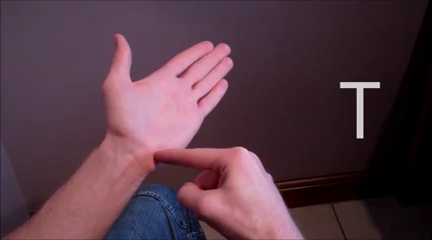T: (93, 22, 302, 235)
